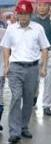boots: (0, 92, 5, 99), (0, 95, 4, 102)
hard-hat: (15, 0, 33, 13)
